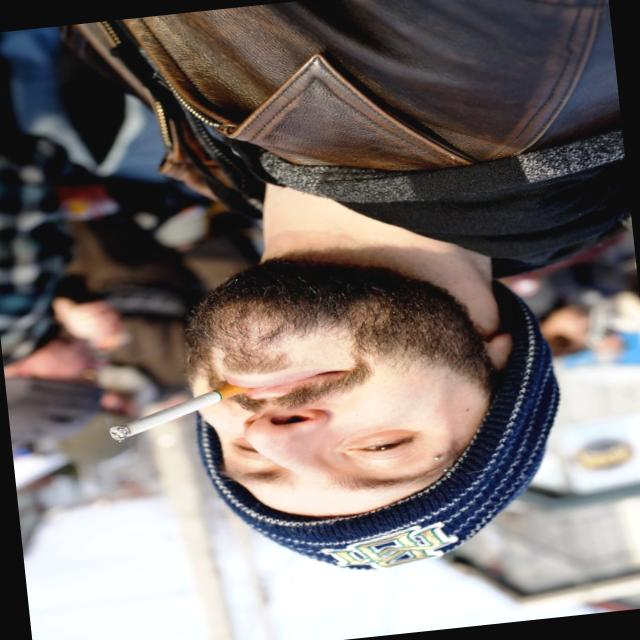smoke: (94, 381, 256, 446)
